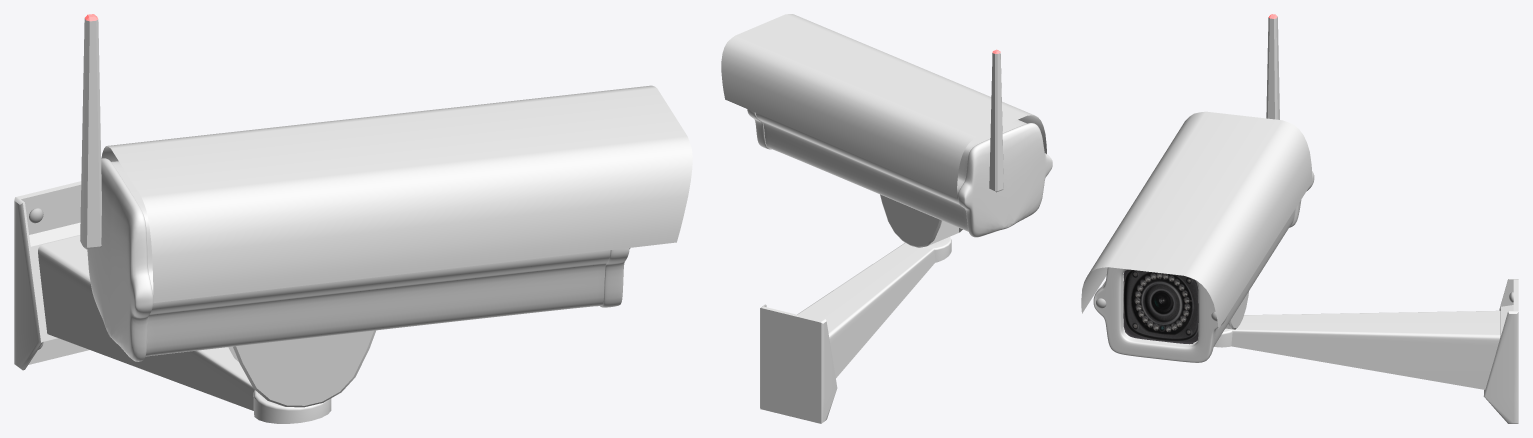
File: security-camera.glb
3 views of the same model, side by side, from view 1: azimuth 30°, elevation 25°; view 2: azimuth 150°, elevation 25°; view 3: azimuth 270°, elevation 25° (orthographic). The views are drawn at different scales.
Visible parts, largest first — view 1: SecurityCameraBase_Team3_Sanchez_SecurityCameraBase_0; view 2: SecurityCameraBase_Team3_Sanchez_SecurityCameraBase_0; view 3: SecurityCameraBase_Team3_Sanchez_SecurityCameraBase_0, SecurityCamera_Team3_Sanchez_SecuruityCameraLens_0.
Boxes of the visible parts, x1,y1,x2,y2 form: SecurityCameraBase_Team3_Sanchez_SecurityCameraBase_0: (14,18,692,423); SecurityCameraBase_Team3_Sanchez_SecurityCameraBase_0: (721,14,1052,423); SecurityCameraBase_Team3_Sanchez_SecurityCameraBase_0: (1081,17,1518,423); SecurityCamera_Team3_Sanchez_SecuruityCameraLens_0: (1123,269,1198,344).
Size of the model in its own units: 10.17 by 9.37 by 10.89.
3 materials, 3 textured.
